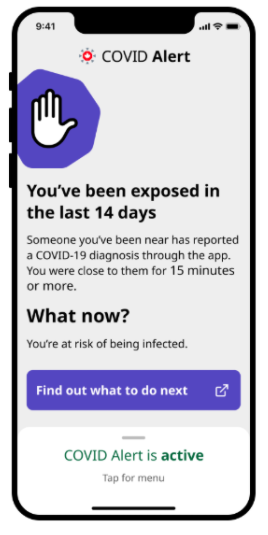Exposed: (14, 69, 254, 229)
